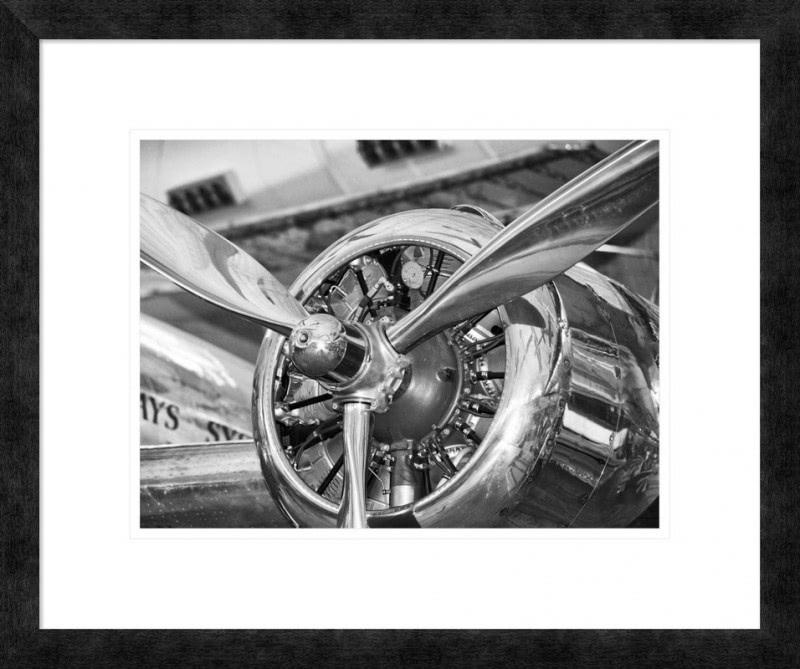Propeller: (158, 152, 657, 513)
